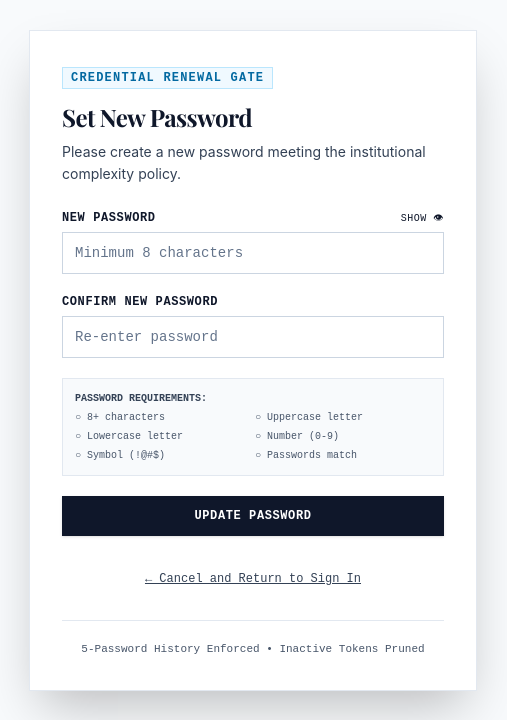
Test: ResetPassword Page (TDD Suite) › displays API error banner when token is expired or password was reused
The image size is (507, 720).
Type "HospitalPass2026!" into the password field with placeholder "Minimum 8 characters" at point(253, 253), box [62,232,444,274]
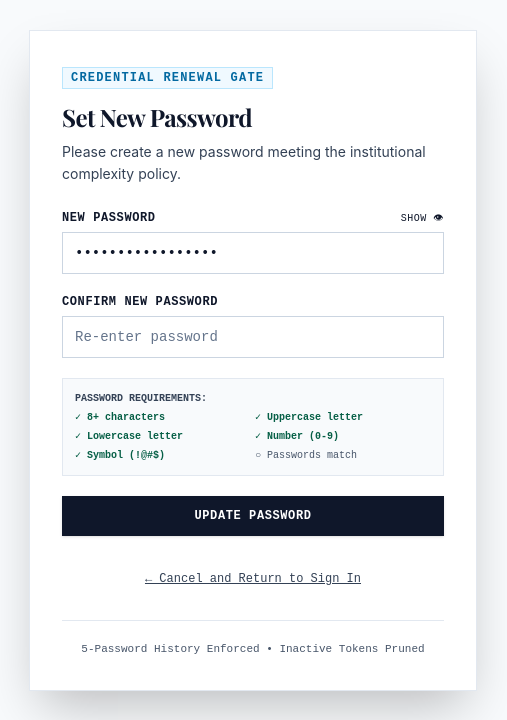
Type "HospitalPass2026!" into the password field with placeholder "Re-enter password" at point(253, 337), box [62,316,444,358]
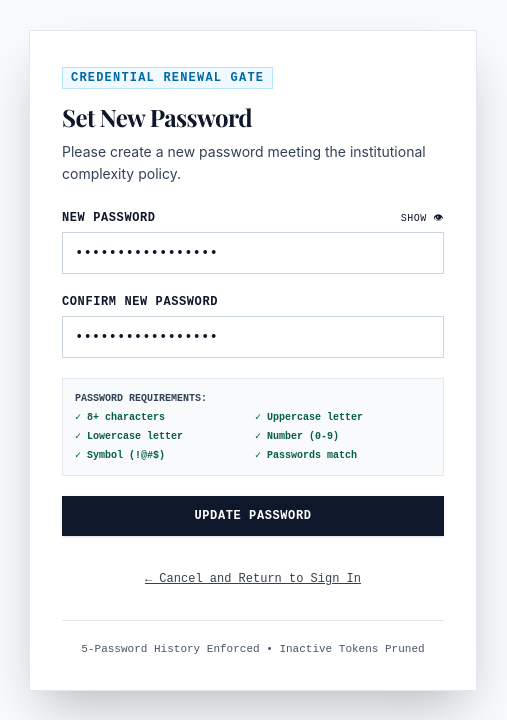
Click the button "Update Password" at point(253, 516), box [62,496,444,536]
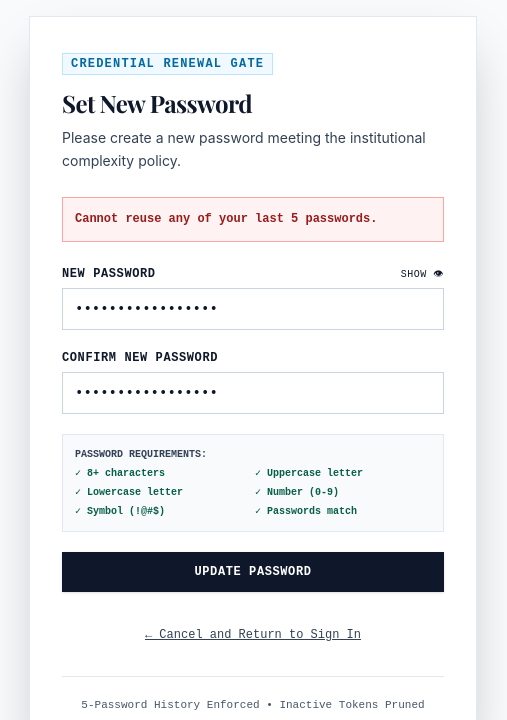
Expected: the text "Cannot reuse any of your last 5 passwords." is shown, [62,196,444,242]
